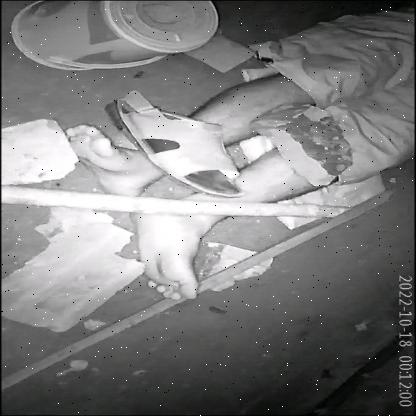leg: (117, 200, 247, 304), (58, 122, 143, 210)
